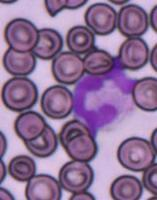N: (71, 70, 138, 133)
